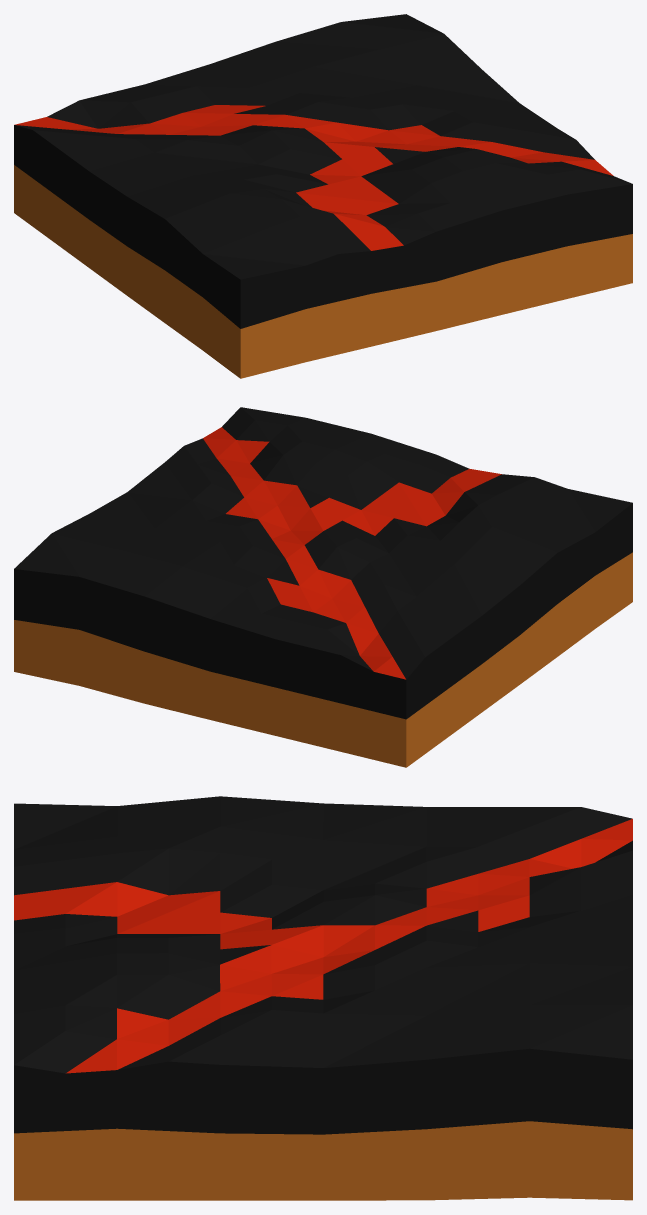
Rendered from TERRE_CRAQUELEE_feu-terre.fbx.
3 views of the same model, one above another, from view 1: azimuth 30°, elevation 25°; view 2: azimuth 150°, elevation 25°; view 3: azimuth 270°, elevation 25° (orthographic). The views are drawn at different scales.
Visible parts, largest first — view 1: herbe.013; view 2: herbe.013; view 3: herbe.013.
Part boxes in pixels (x1=…): herbe.013: x1=14, y1=14, x2=632, y2=378; herbe.013: x1=14, y1=407, x2=632, y2=767; herbe.013: x1=14, y1=796, x2=632, y2=1200.
Bounding box in the file's own units: 5 × 1.42 × 5.
